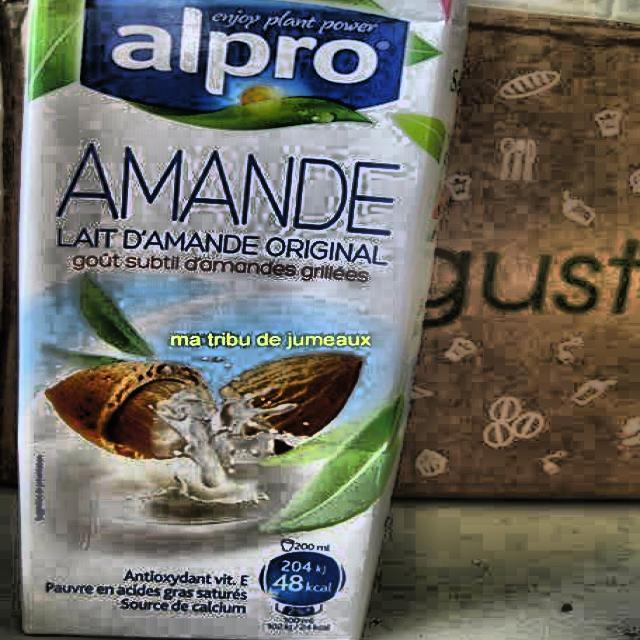cardboard: (10, 0, 462, 640), (391, 0, 640, 501)
